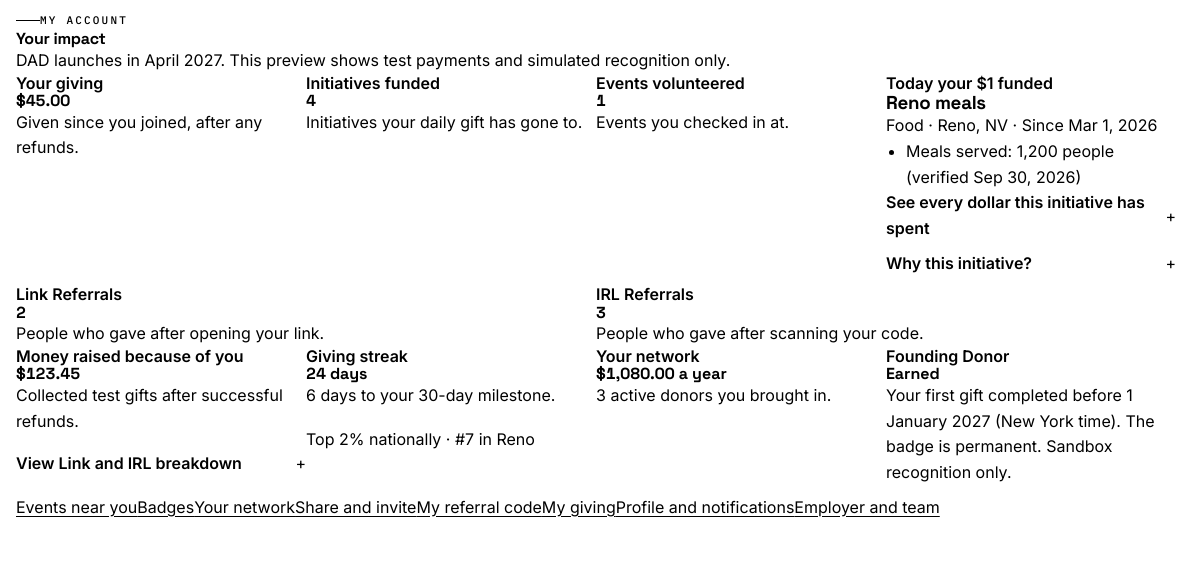
shows the donor's own impact and today's initiative with its spending
The width and height of the screenshot is (1193, 585).
Check: the text "$45.00" is shown, box [16,90,70,111]
Check: the text "4" is shown, box [306,90,316,111]
Click the heading "See every dollar this initiative has spent" at (1015, 202), box [886,190,1176,242]
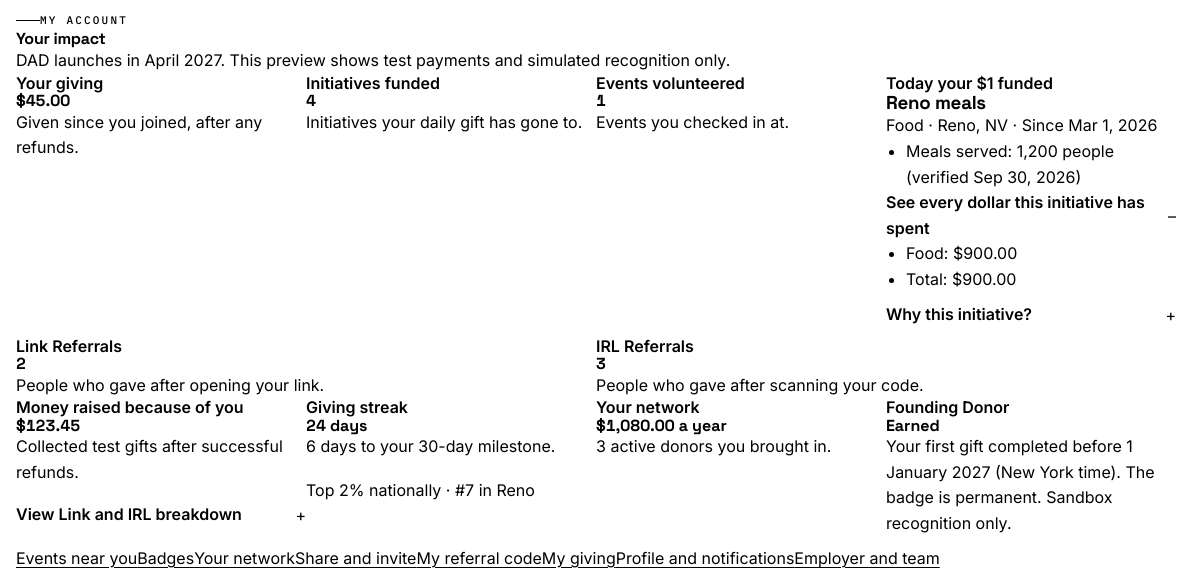
Check: the list item "Food: $900.00" is shown, box [906,244,1017,264]
